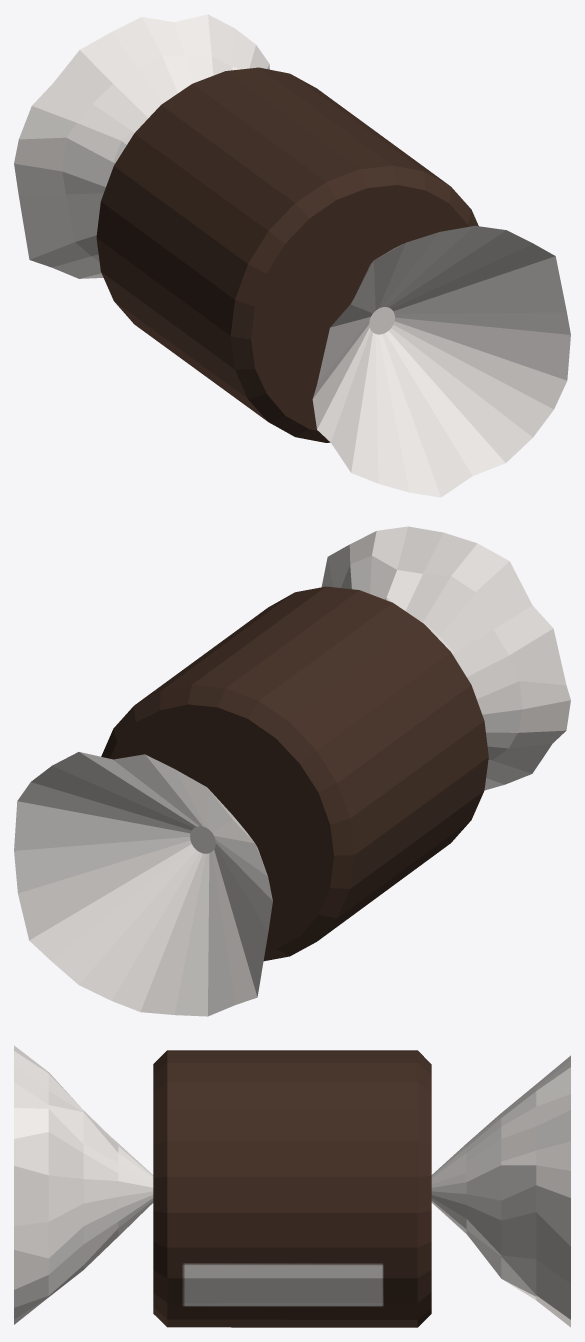
File: 002_candy1.fbx
3 renders of one model, top to bottom at view 1: azimuth 30°, elevation 25°; view 2: azimuth 150°, elevation 25°; view 3: azimuth 270°, elevation 25°, orthographic. The views are drawn at different scales.
Parts seen in each view (by area): view 1: candy1; view 2: candy1; view 3: candy1.
Boxes of the visible parts, x1,y1,x2,y2 form: candy1: (14, 14, 570, 497); candy1: (14, 526, 570, 1016); candy1: (14, 1045, 570, 1327).
Bounding box in the file's own units: 20.05 × 20 × 40.
1 material, 1 textured.
